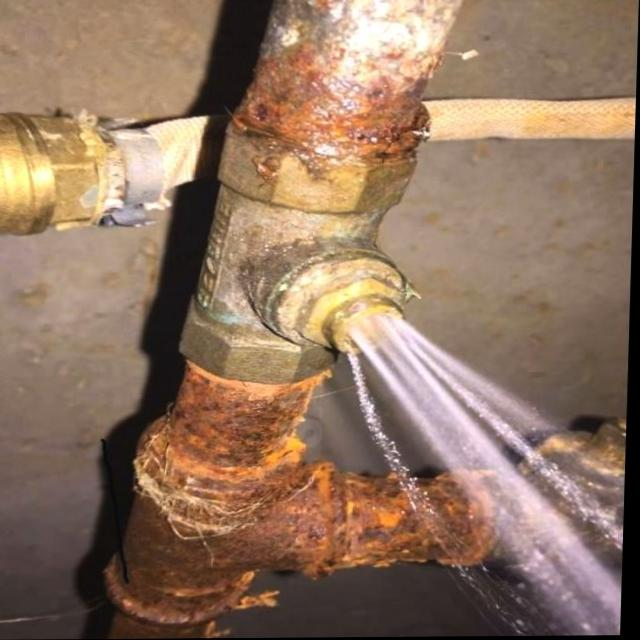leak: (352, 318, 622, 636)
